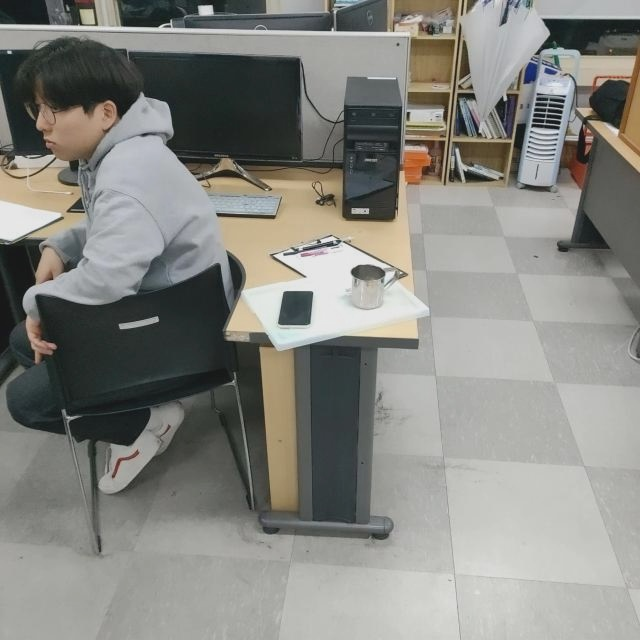cup: (349, 262, 398, 310)
phone: (275, 288, 315, 330)
